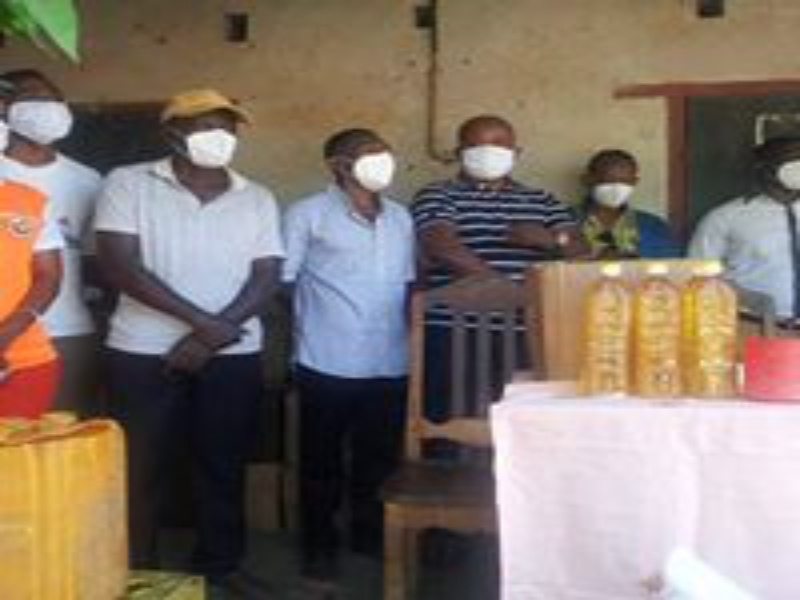ManaoArotava: (163, 83, 261, 186), (320, 122, 407, 214), (4, 66, 85, 161), (448, 103, 532, 191), (583, 141, 645, 216)
